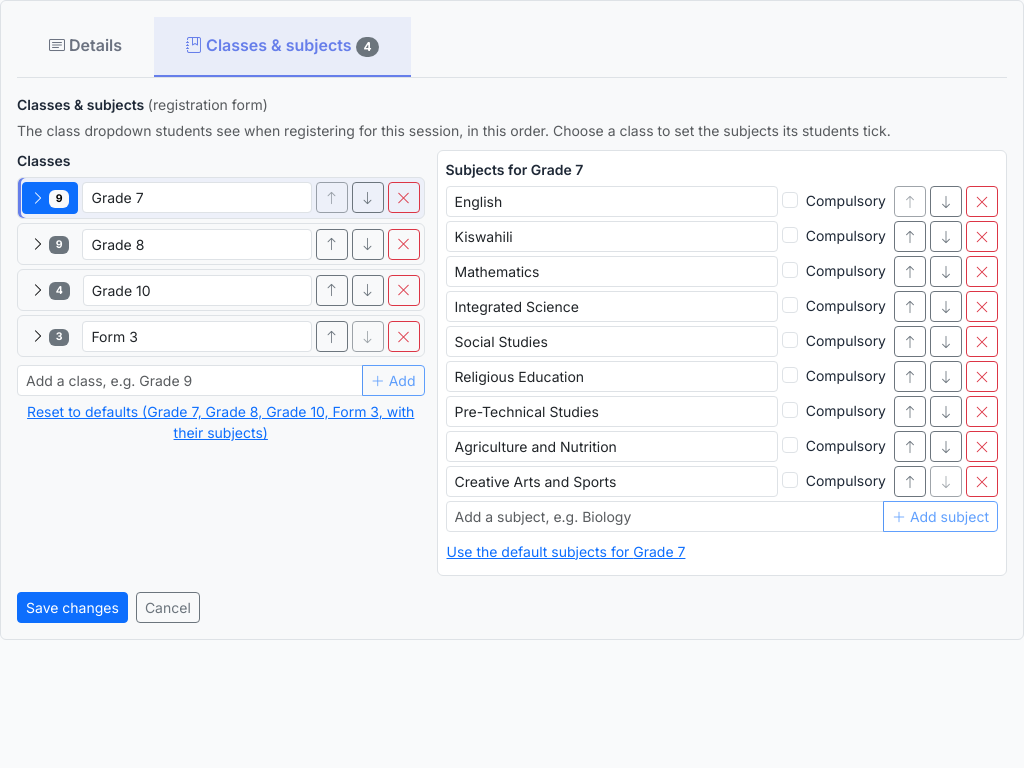
Scenario: errors on the tab you are not looking at › a blank name, saved from Classes, switches to Details
This screenshot has width=1024, height=768.
Click the tab "Details": coordinates (86, 46) x1=17 y1=17 x2=154 y2=75
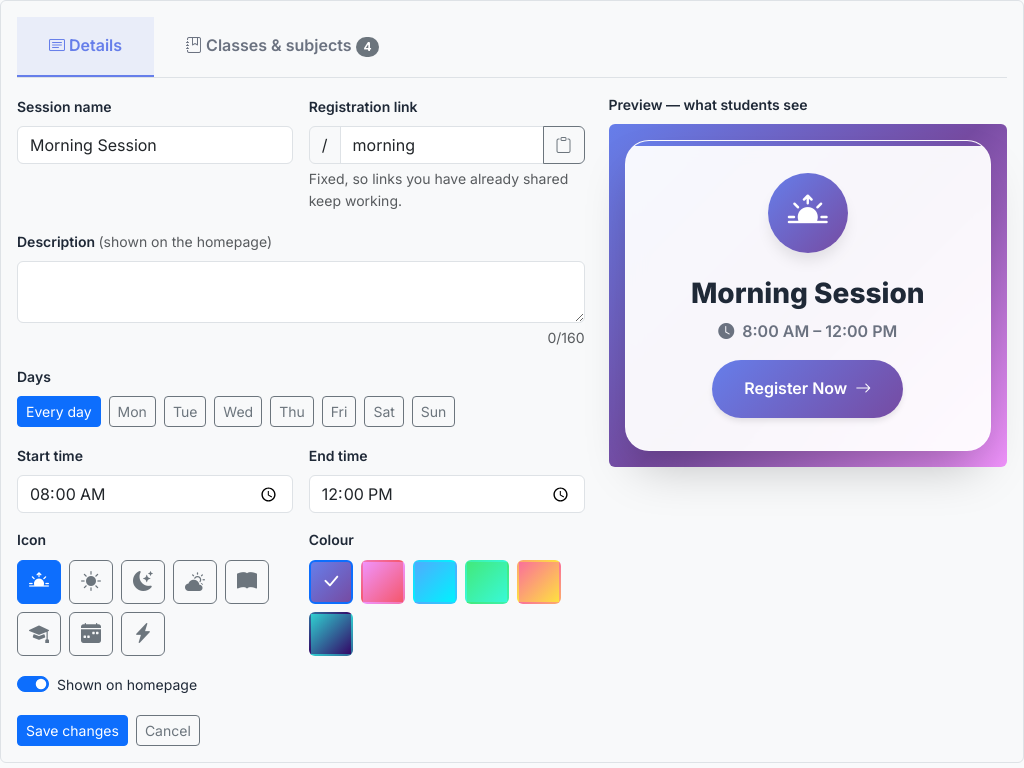
Clear the field labelled "Session name": coordinates (155, 145) x1=17 y1=126 x2=293 y2=164
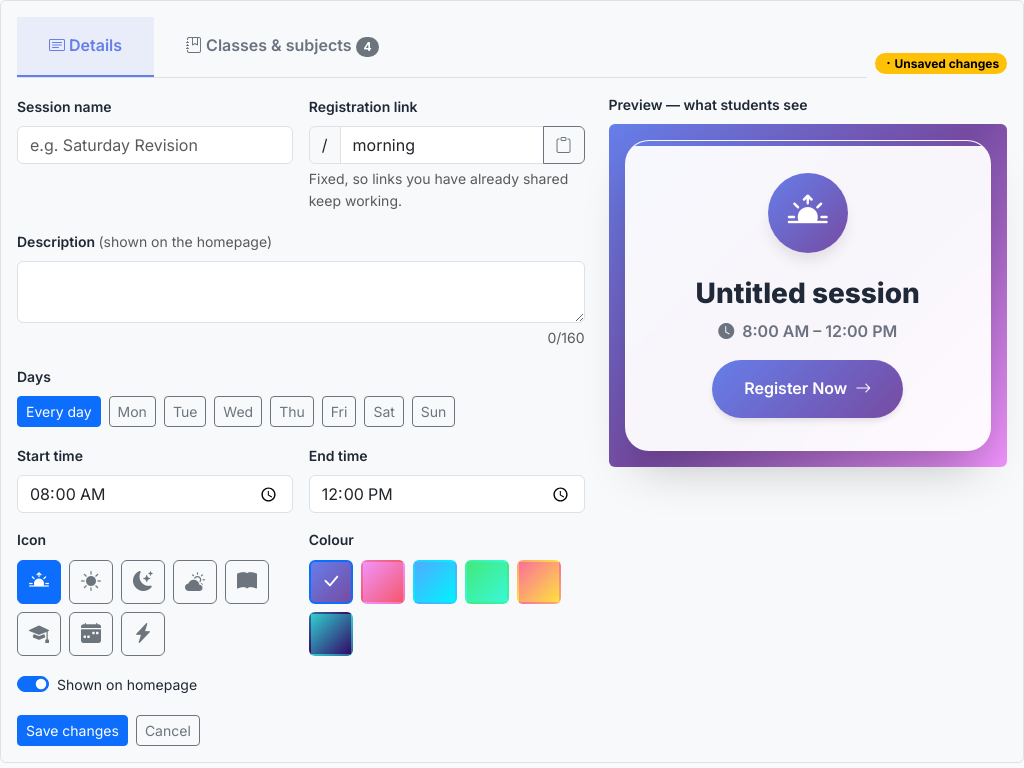
Click the tab "Classes & subjects 4": coordinates (283, 46) x1=154 y1=17 x2=411 y2=75
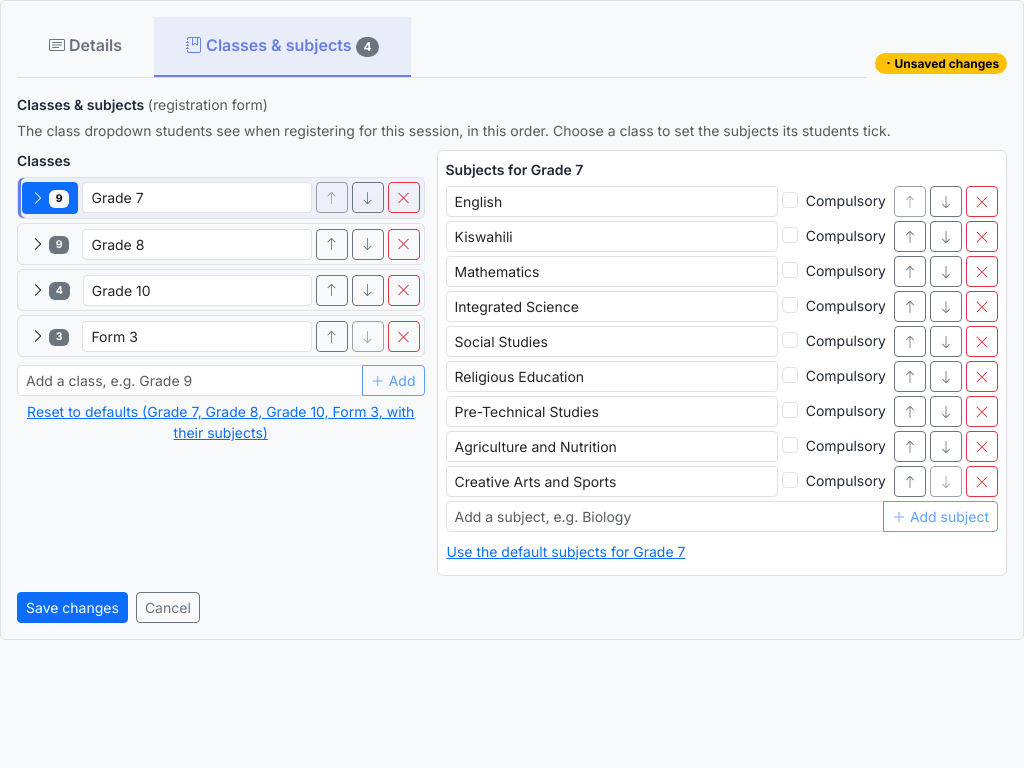
Click the button "Save changes": coordinates (72, 607) x1=17 y1=592 x2=128 y2=623
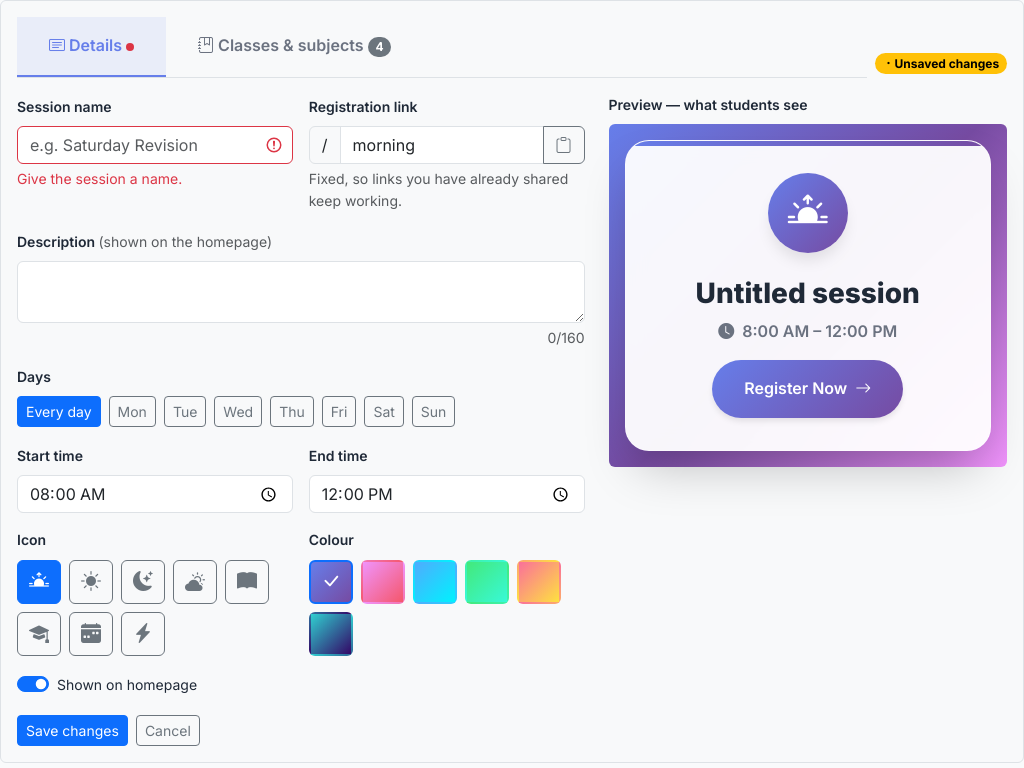
Now the element with test id "tab-error" is shown, box x1=126 y1=43 x2=134 y2=51
